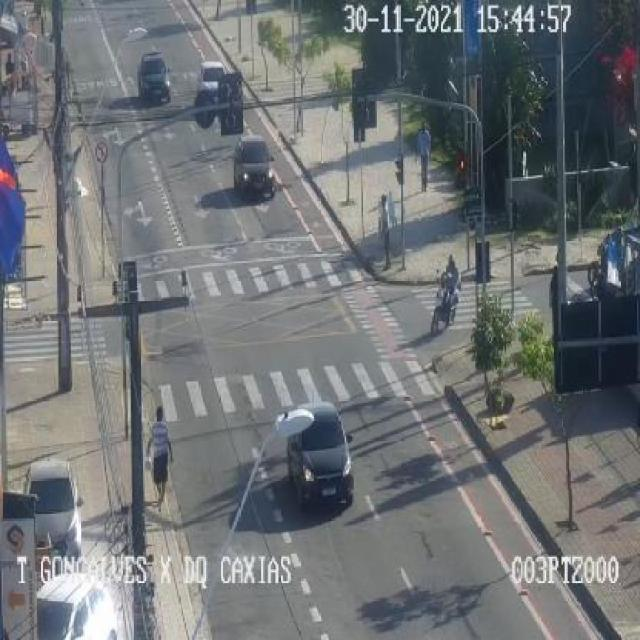Car: (277, 397, 364, 515), (12, 454, 94, 558), (30, 570, 128, 640), (230, 137, 279, 208), (129, 52, 175, 106), (193, 59, 239, 112)
Cycle: (560, 236, 640, 300), (424, 251, 466, 329)
